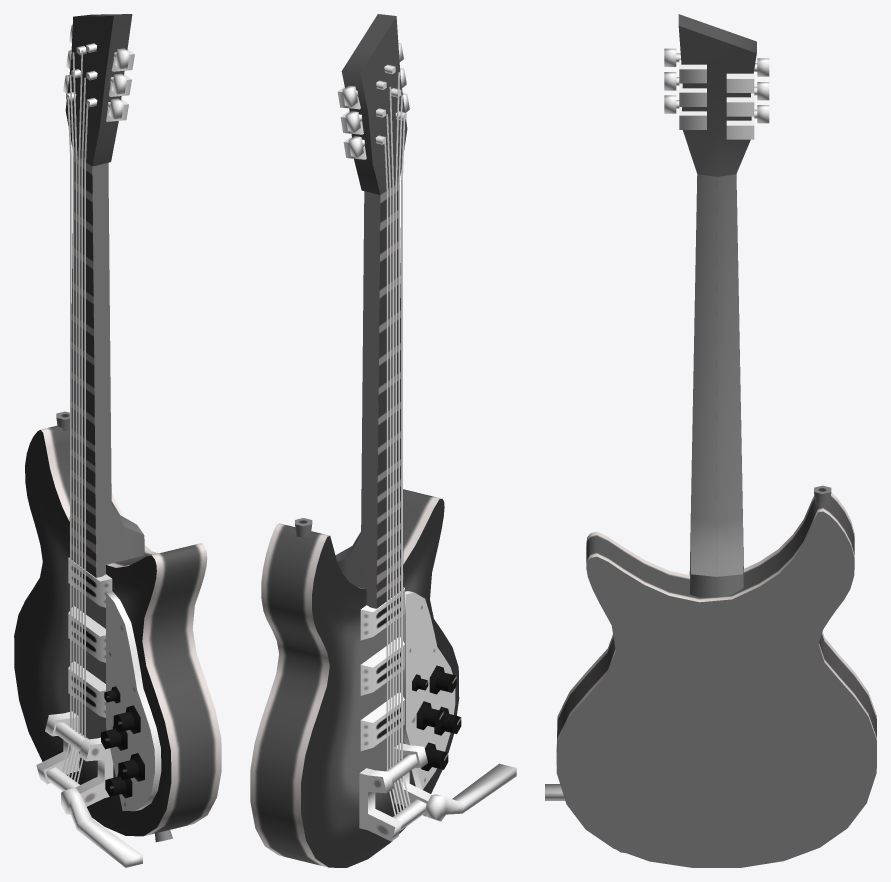
The model's file is obj_Guitar_Rickenbacker.fbx.
The picture shows the model from 3 angles, left to right: view 1: azimuth 30°, elevation 25°; view 2: azimuth 150°, elevation 25°; view 3: azimuth 270°, elevation 25°; orthographic projection.
Visible parts, largest first — view 1: obj_Guitar_Rickenbacker; view 2: obj_Guitar_Rickenbacker; view 3: obj_Guitar_Rickenbacker.
Part boxes in pixels (x1,y1,x2,y2): obj_Guitar_Rickenbacker: (14,14,221,867); obj_Guitar_Rickenbacker: (250,14,516,867); obj_Guitar_Rickenbacker: (545,14,876,867).
Size of the model in its own units: 0.1167 by 0.9011 by 0.3235.
Materials: 1 (1 with a texture image).
